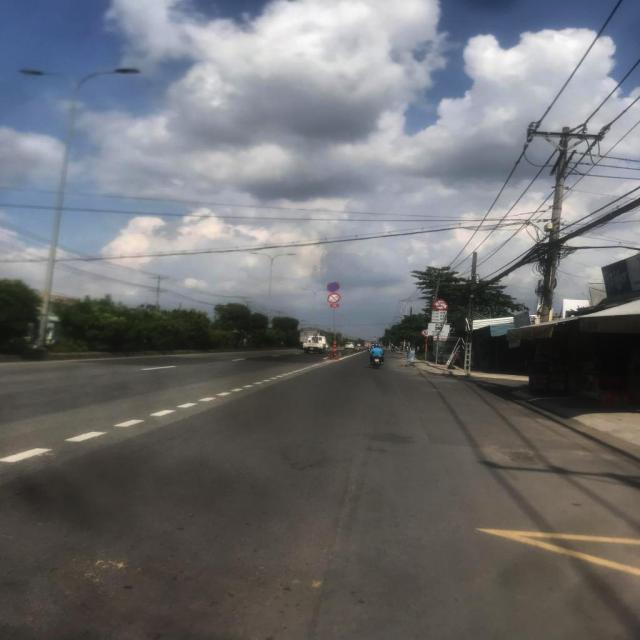107-cam-oto-khach-va-oto-tai: (432, 299, 448, 311)
